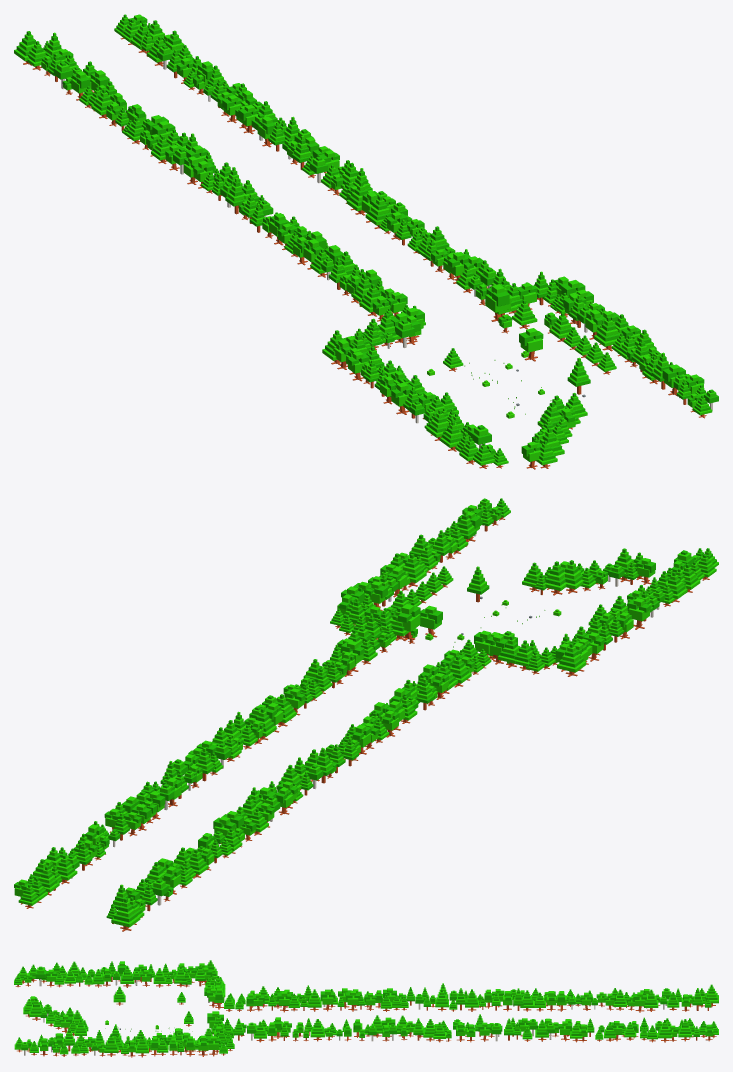
File: Foliage.fbx
The picture shows the model from 3 angles, top to bottom: view 1: azimuth 30°, elevation 25°; view 2: azimuth 150°, elevation 25°; view 3: azimuth 270°, elevation 25°; orthographic projection. The views are drawn at different scales.
Bounding box in the file's own units: 28992 × 6000 × 106987.
